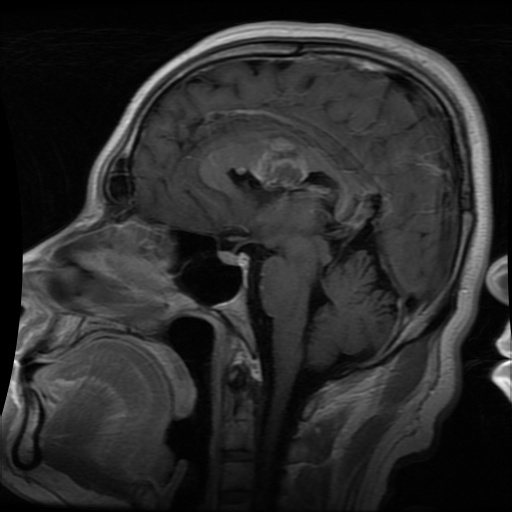glioma: (252, 133, 311, 189)
